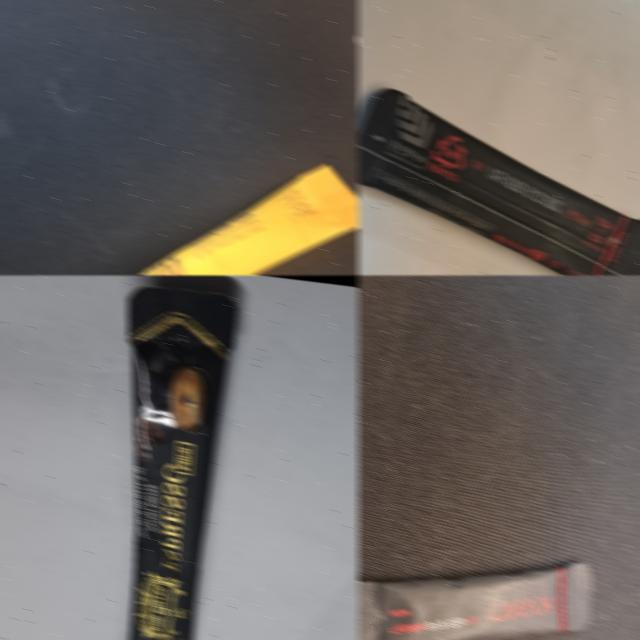KANU: (356, 74, 640, 275), (357, 509, 618, 640)
espresso_mini: (70, 275, 262, 640)
mix_coffee: (0, 108, 359, 275)
